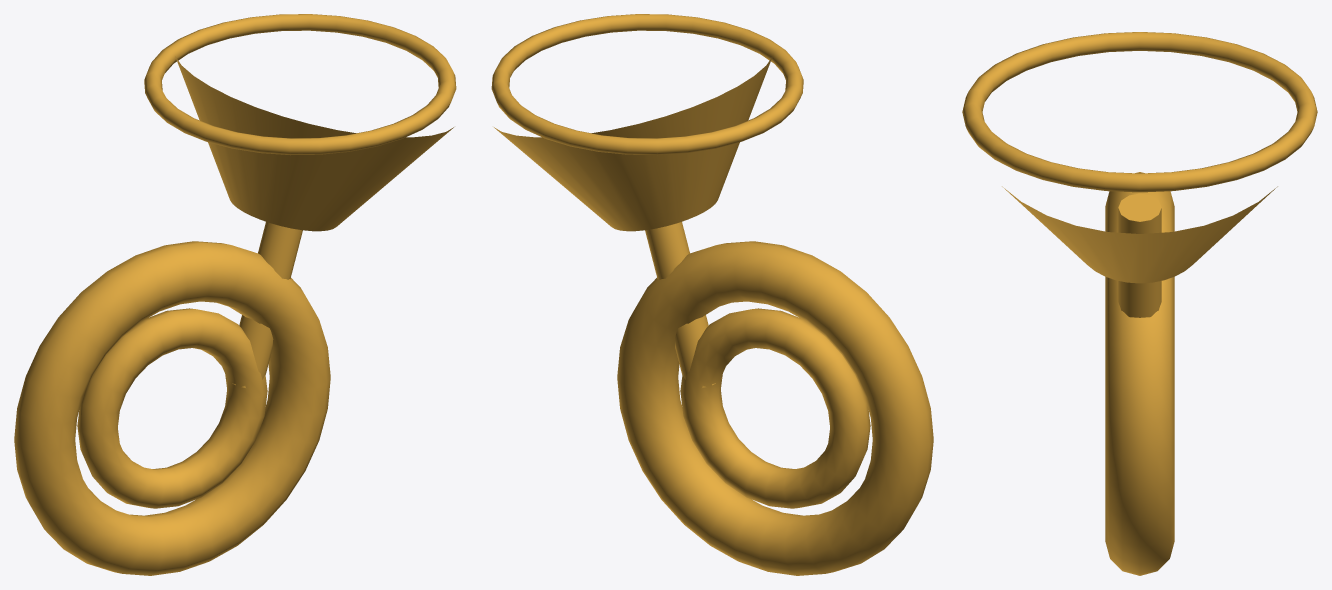
File: sousaphone.glb
3 renders of one model, left to right at view 1: azimuth 30°, elevation 25°; view 2: azimuth 150°, elevation 25°; view 3: azimuth 270°, elevation 25°, orthographic. The views are drawn at different scales.
Parts seen in each view (by area): view 1: SousaphoneCoil, SousaphoneInnerLoop, SousaphoneBell, SousaphoneBellRim, SousaphoneNeck; view 2: SousaphoneCoil, SousaphoneInnerLoop, SousaphoneBell, SousaphoneBellRim, SousaphoneNeck; view 3: SousaphoneCoil, SousaphoneBellRim, SousaphoneBell, SousaphoneNeck.
Boxes of the visible parts, x1,y1,x2,y2 form: SousaphoneCoil: (14, 241, 330, 575); SousaphoneInnerLoop: (77, 308, 267, 508); SousaphoneBell: (175, 56, 453, 231); SousaphoneBellRim: (144, 14, 456, 155); SousaphoneNeck: (226, 222, 302, 387); SousaphoneCoil: (617, 241, 933, 575); SousaphoneInnerLoop: (680, 308, 870, 508); SousaphoneBell: (494, 56, 772, 231); SousaphoneBellRim: (491, 14, 803, 155); SousaphoneNeck: (645, 222, 721, 387); SousaphoneCoil: (1105, 172, 1174, 575); SousaphoneBellRim: (962, 32, 1317, 192); SousaphoneBell: (1002, 186, 1277, 283); SousaphoneNeck: (1118, 193, 1161, 317).
Size of the model in its own units: 1.91 by 2.12 by 1.23.
